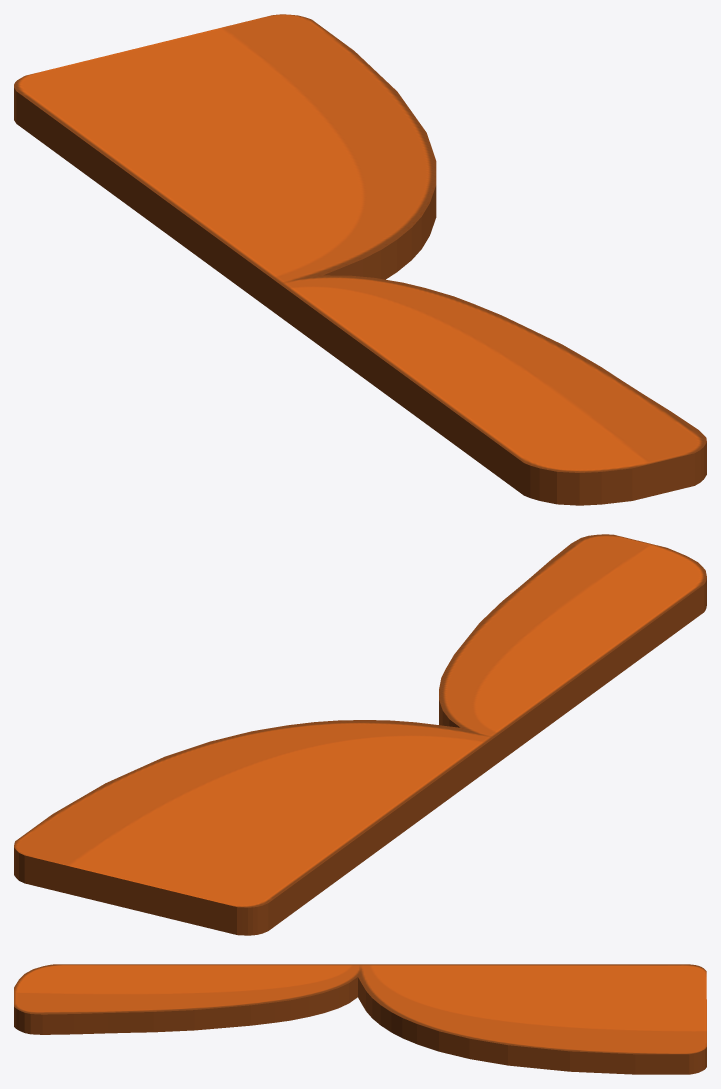
File: curtain.fbx
3 views of the same model, one above another, from view 1: azimuth 30°, elevation 25°; view 2: azimuth 150°, elevation 25°; view 3: azimuth 270°, elevation 25° (orthographic). The views are drawn at different scales.
Visible parts, largest first — view 1: Cube; view 2: Cube; view 3: Cube.
Boxes of the visible parts, box(x1,y1,x2,y2) form: Cube: box(14, 14, 706, 505); Cube: box(14, 534, 706, 935); Cube: box(14, 964, 706, 1074).
Bounding box in the file's own units: 154 × 16.23 × 500.
